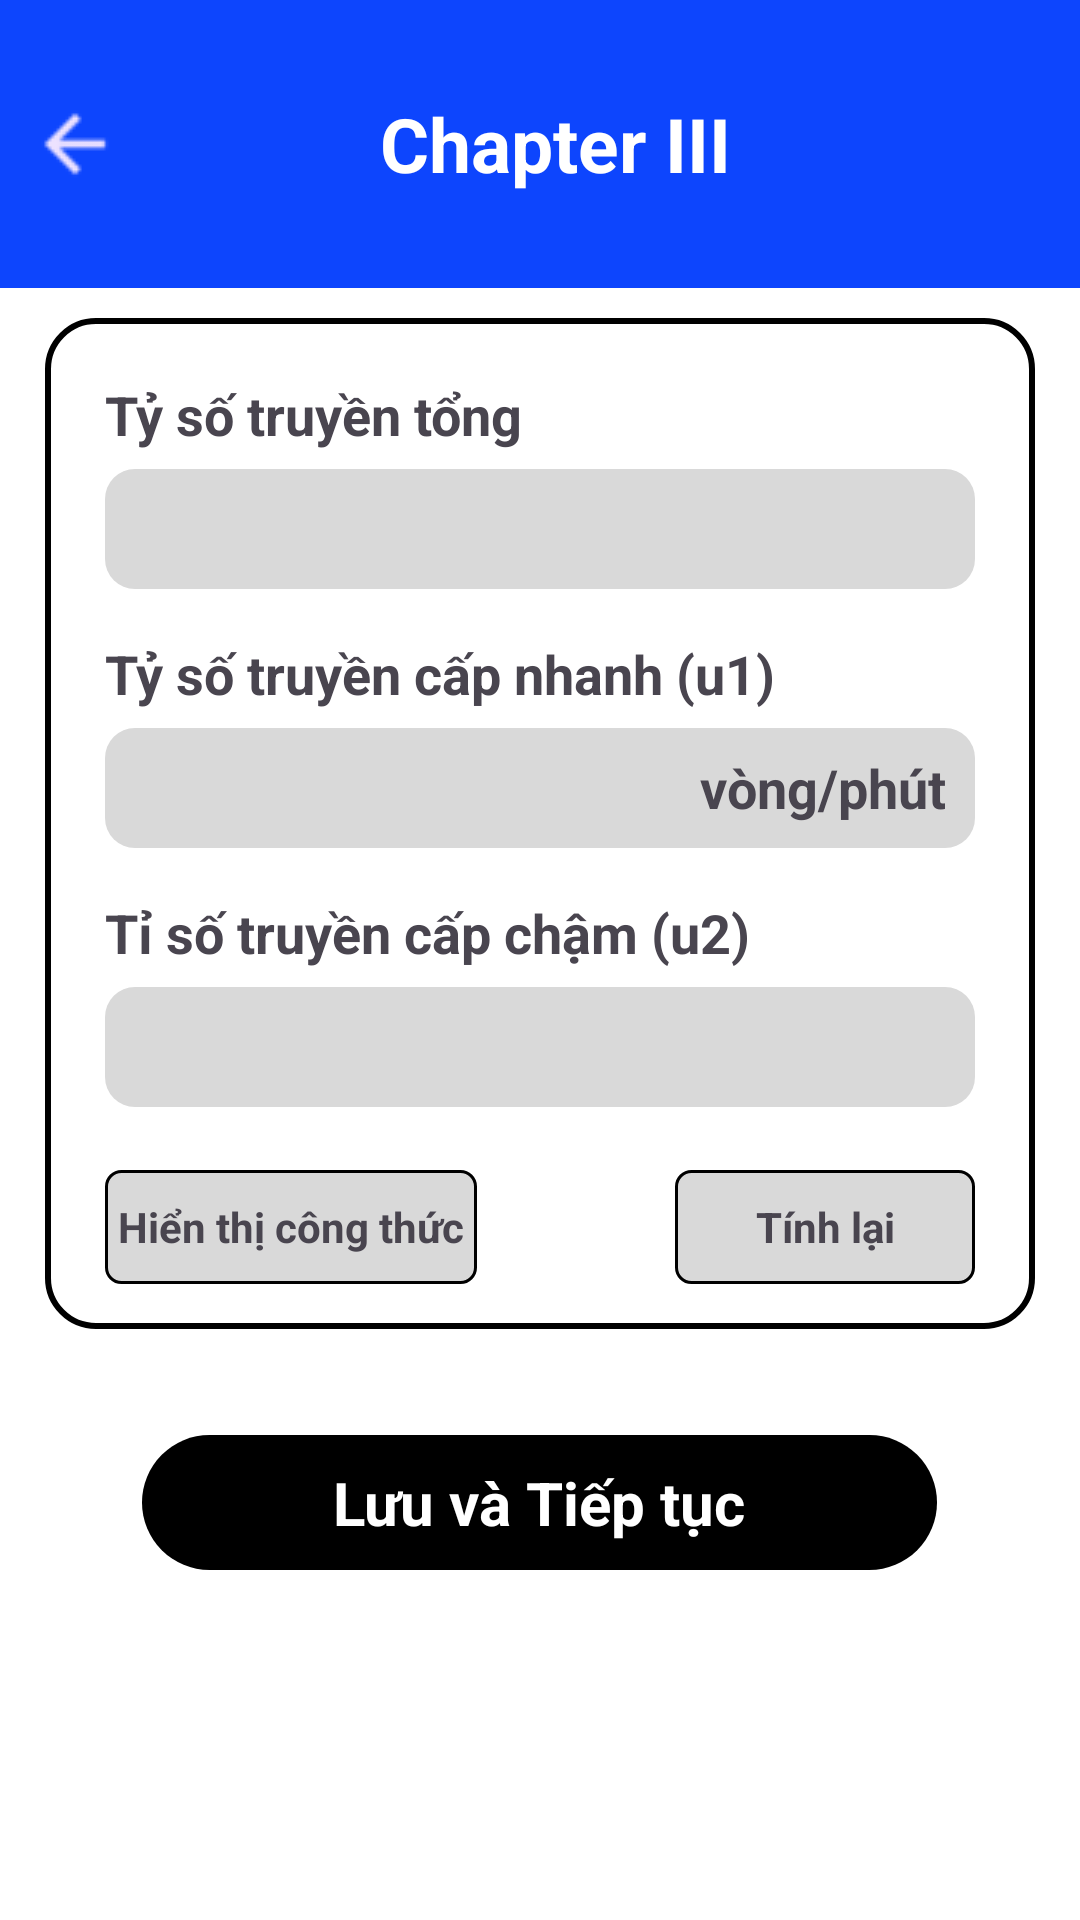

Screen size 1080×1920. Icon name, then its box in pixels as (x1, y1, x2, y2):
arrow back: (44, 113, 106, 175)
